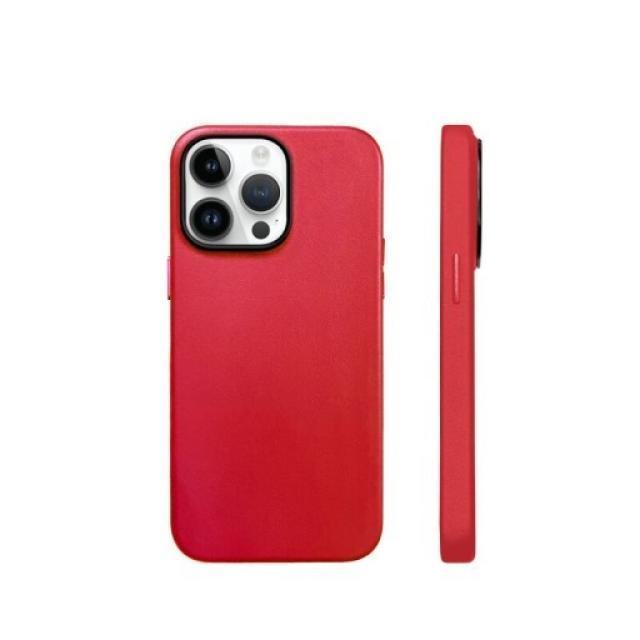phone: (166, 124, 387, 564)
